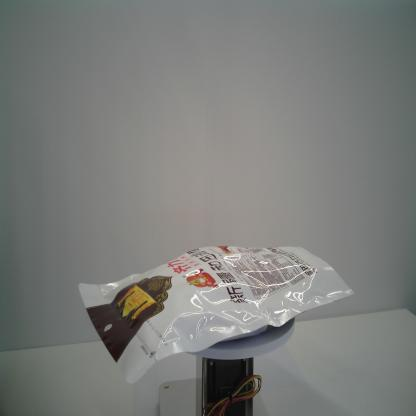Dried Food: (71, 237, 355, 386)
